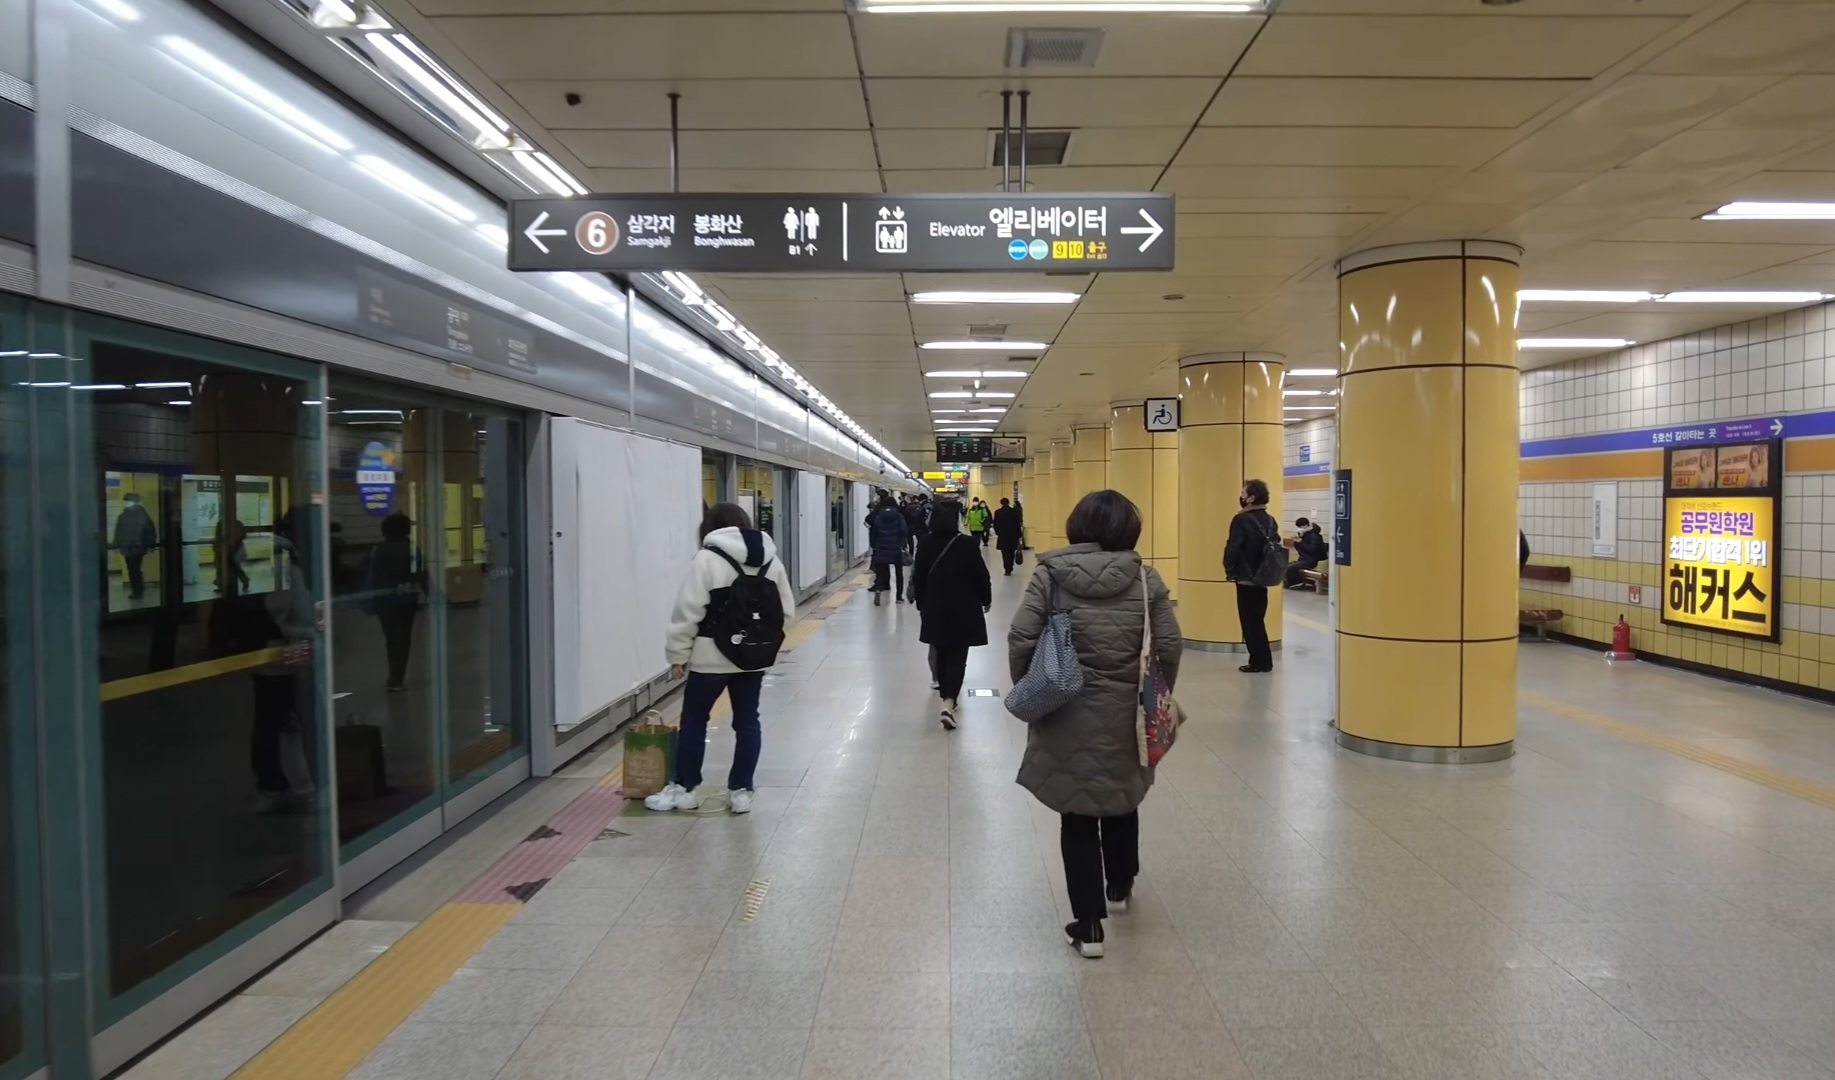signBoard: (492, 184, 1195, 276)
